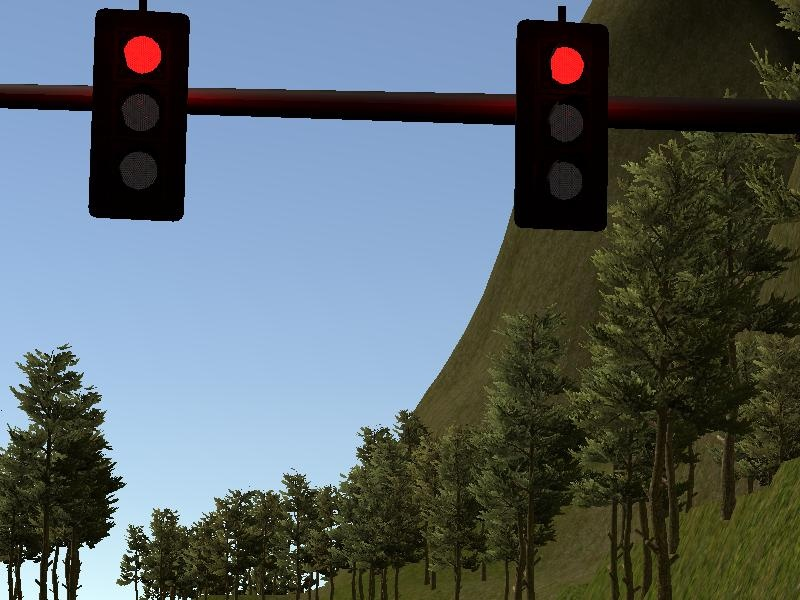Red: (88, 4, 191, 228), (510, 15, 612, 234)
